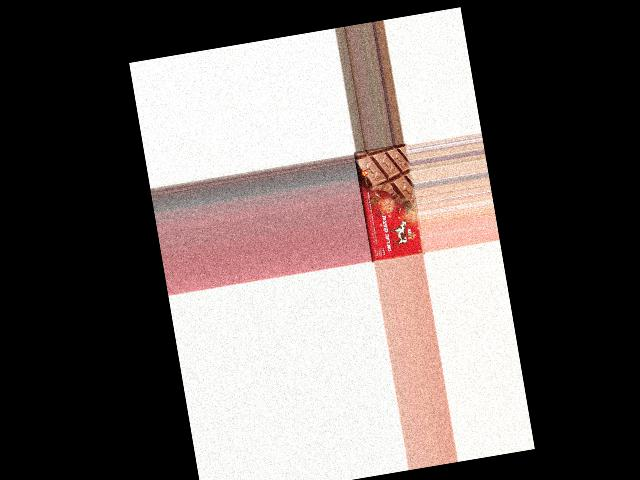chocolate: (353, 143, 424, 264)
